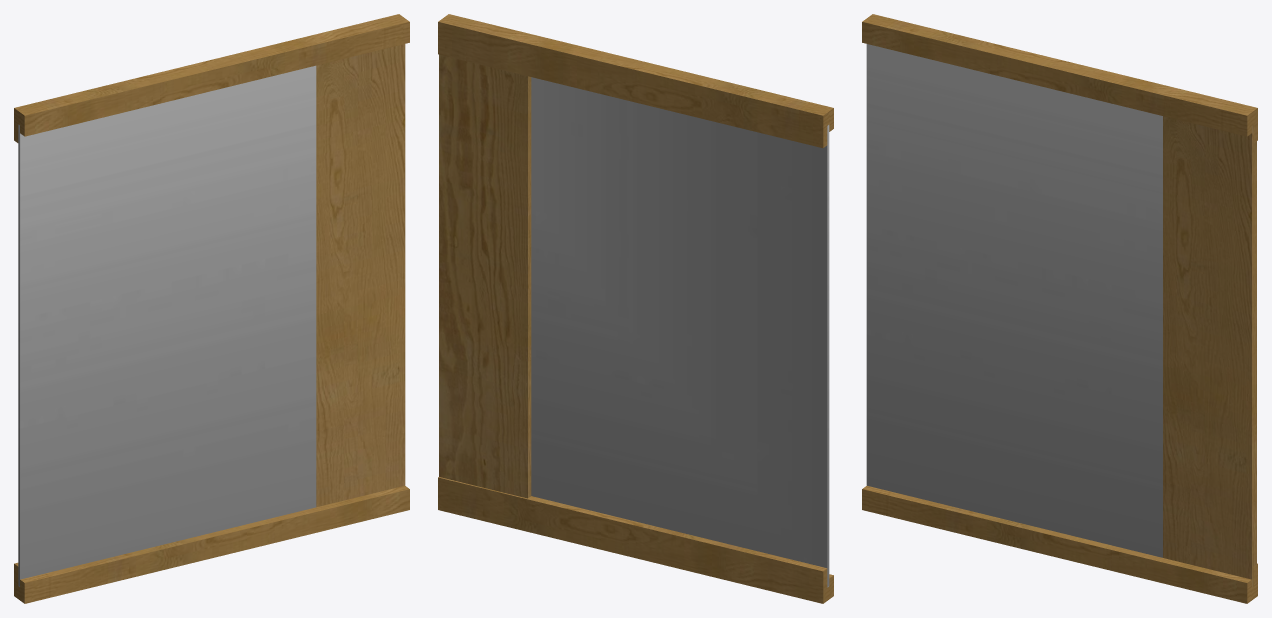
The model's file is espejo-bano.glb.
3 renders of one model, left to right at view 1: azimuth 30°, elevation 25°; view 2: azimuth 150°, elevation 25°; view 3: azimuth 330°, elevation 25°, orthographic.
Size of the model in its own units: 0.52 by 0.63 by 0.025.
3 materials, 3 textured.
